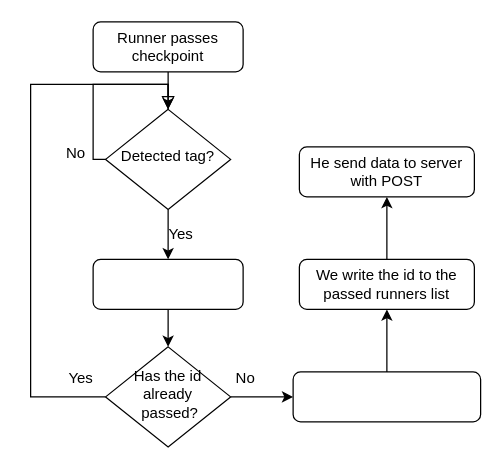
The diagram is 503 pixels wide and 469 high, and some of its shapes have lost their labels. Here are the shapes that lost their labels. From the top down, the box of each, then its label:
(92, 258, 243, 309): We grab tag value
(292, 371, 481, 422): We write id, checkpoint and time to the csv
